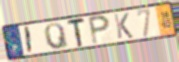7: (136, 8, 153, 38)
I: (24, 25, 33, 55)
K: (112, 12, 135, 40)
P: (87, 14, 112, 46)
Q: (43, 22, 70, 50)
T: (67, 16, 87, 48)
